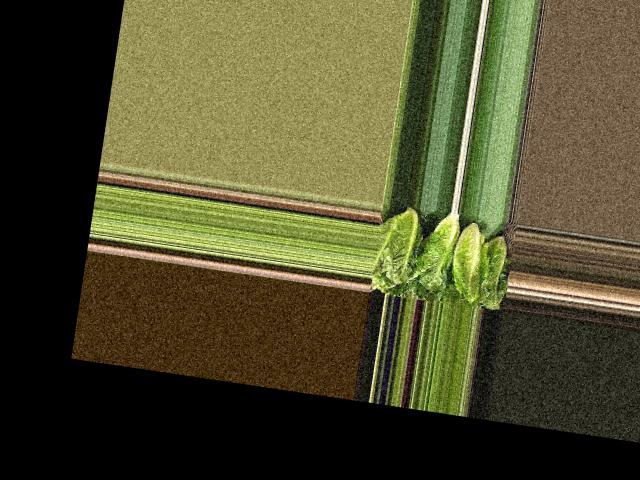lettuce: (476, 236, 508, 311)
